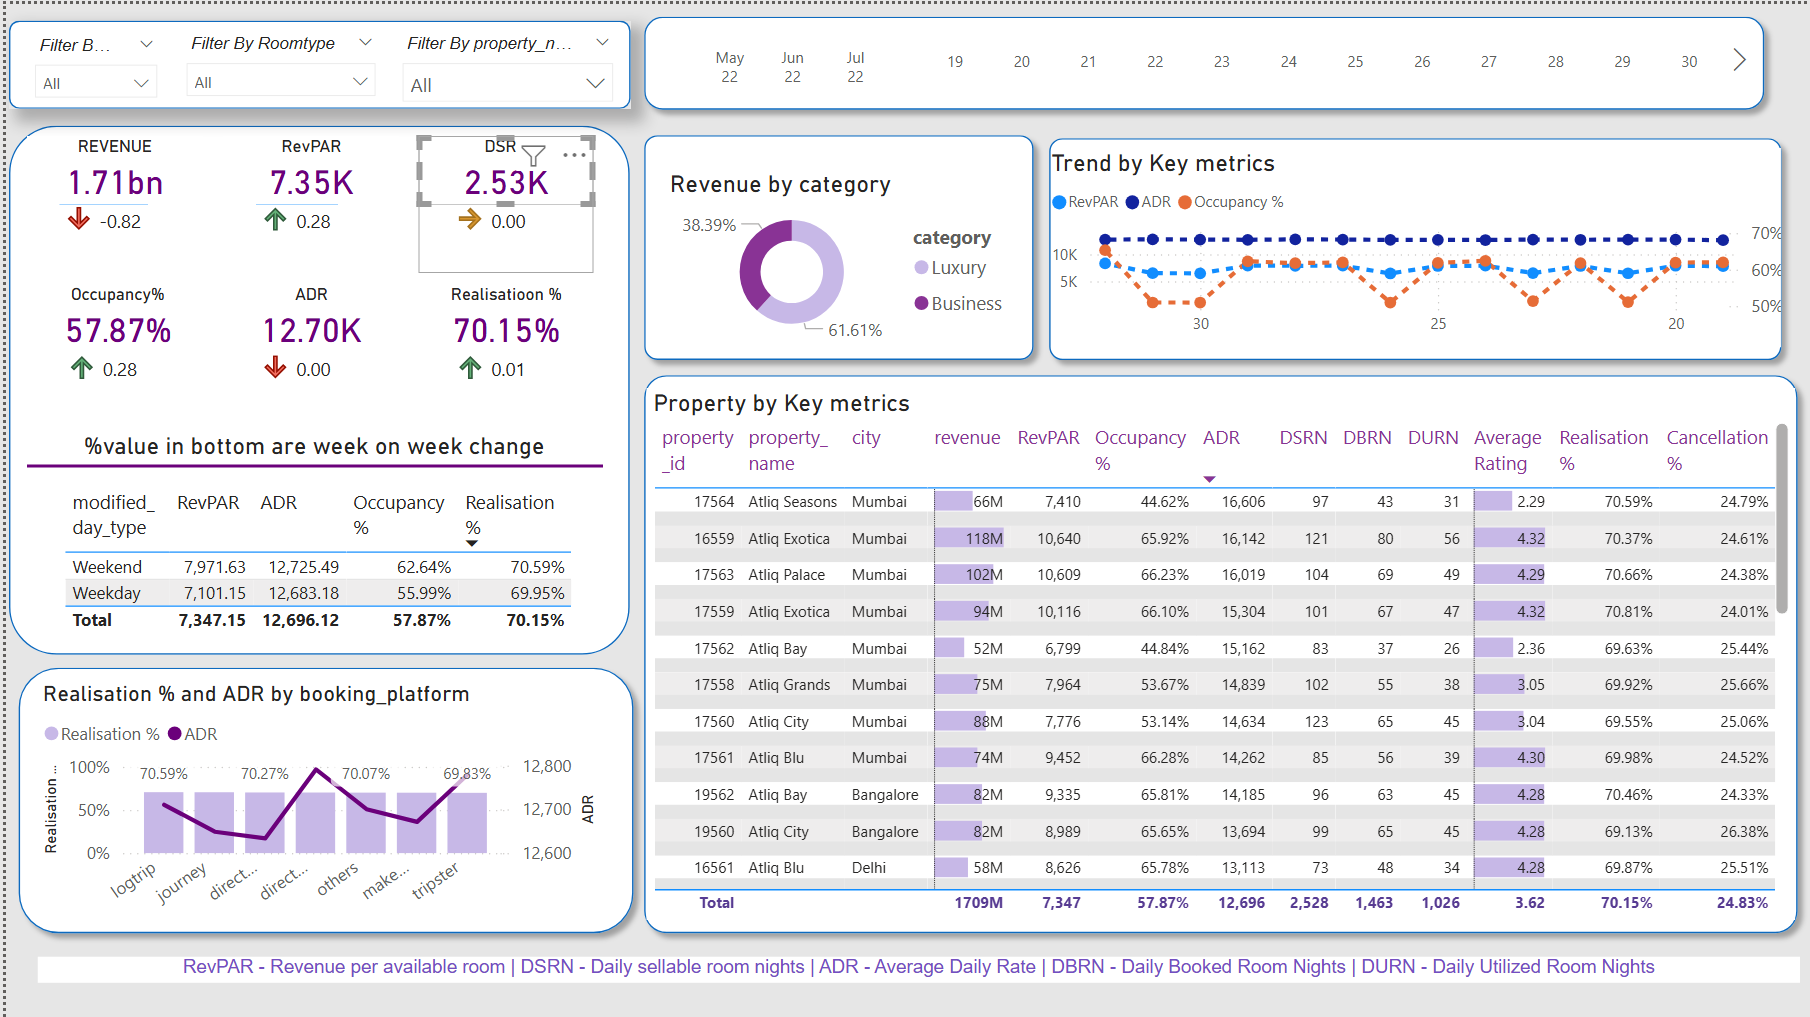

The dashboard page shown, as its layout file describes it:
{"tool":"powerbi","page":{"name":"main_page","canvas":[1280,720],"ordinal":0},"visuals":[{"type":"shape","box":[2.1,86.2,440.4,375.5],"z":0},{"type":"tableEx","title":".","fields":{"Values":["key_metrics (2).Revenue WoW change %"]},"box":[31.9,108.5,91.5,81.9],"z":0,"group":"g2"},{"type":"tableEx","title":".","fields":{"Values":["key_metrics (2).Revpar WoW change %"]},"box":[171.3,108.5,91.5,81.9],"z":0,"group":"g3"},{"type":"tableEx","title":".","fields":{"Values":["key_metrics (2).DSRN WoW change %"]},"box":[309.6,108.5,91.5,81.9],"z":0,"group":"g4"},{"type":"tableEx","title":".","fields":{"Values":["key_metrics (2).Occupancy WoW change %"]},"box":[34,213.8,91.5,81.9],"z":0,"group":"g5"},{"type":"tableEx","title":".","fields":{"Values":["key_metrics (2).ADR WoW change %"]},"box":[171.3,213.8,91.5,81.9],"z":0,"group":"g7"},{"type":"tableEx","title":".","fields":{"Values":["key_metrics (2).Realisation WoW change %"]},"box":[309.6,213.8,91.5,81.9],"z":0,"group":"g6"},{"type":"shape","box":[2.1,11.7,441.5,62.8],"z":1000},{"type":"card","title":"REVENUE","fields":{"Values":["key_metrics (2).revenue"]},"box":[14.9,93.6,124.5,48.9],"z":1000,"group":"g2"},{"type":"card","title":"RevPAR","fields":{"Values":["key_metrics (2).RevPAR"]},"box":[154.3,93.6,124.5,48.9],"z":1000,"group":"g3"},{"type":"card","title":"DSRN","fields":{"Values":["key_metrics (2).DSRN"]},"box":[292.6,93.6,124.5,48.9],"z":1000,"group":"g4"},{"type":"card","title":"Occupancy%","fields":{"Values":["key_metrics (2).Occupancy %"]},"box":[17,198.9,124.5,48.9],"z":1000,"group":"g5"},{"type":"card","title":"ADR","fields":{"Values":["key_metrics (2).ADR"]},"box":[154.3,198.9,124.5,48.9],"z":1000,"group":"g7"},{"type":"card","title":"Realisatioon %","fields":{"Values":["key_metrics (2).Realisation %"]},"box":[292.6,198.9,124.5,48.9],"z":1000,"group":"g6"},{"type":"shape","box":[0,461.7,454.3,206.4],"z":2000},{"type":"shape","box":[443.6,0,812.8,84],"z":3000},{"type":"shape","box":[443.6,254.3,836.2,413.8],"z":4000},{"type":"tableEx","title":"Property by Key metrics","fields":{"Values":["dim_hotels.property_id","dim_hotels.property_name","dim_hotels.city","key_metrics (2).revenue","key_metrics (2).RevPAR","key_metrics (2).Occupancy %","key_metrics (2).ADR","key_metrics (2).DSRN","key_metrics (2).DBRN","key_metrics (2).DURN","key_metrics (2).Average Rating","key_metrics (2).Realisation %"]},"box":[454.3,272.3,814.9,377.7],"z":5000},{"type":"slicer","fields":{"Values":["dim_date.mmm_yy"]},"box":[466,14.9,181.9,51.1],"z":6000},{"type":"slicer","fields":{"Values":["dim_date.week_no"]},"box":[624.5,13.8,616,52.1],"z":7000},{"type":"group","id":"g1","title":"Group 1","box":[118.1,16,322.3,53.2],"z":8000},{"type":"shape","box":[443.6,84,294.7,177.7],"z":9000},{"type":"donutChart","title":"Revenue by category","fields":{"Category":["dim_hotels.category"],"Y":["key_metrics (2).revenue"]},"box":[466,117,256.4,126.6],"z":10000},{"type":"slicer","fields":{"Values":["dim_rooms.room_class"]},"box":[118.1,16,154.3,53.2],"z":11000,"group":"g1"},{"type":"shape","title":" RevPAR - Revenue per available room | DSRN - Daily sellable room nights | ADR - Average Daily Rate | DBRN - Daily Booked Room Nights | DURN - Daily Utilized Room Nights","box":[22.3,675.5,1250,31.9],"z":11000},{"type":"slicer","fields":{"Values":["dim_hotels.property_name"]},"box":[271.3,16,169.1,53.2],"z":11500,"group":"g1"},{"type":"shape","box":[730.9,86.2,537.2,175.5],"z":12000},{"type":"slicer","fields":{"Values":["dim_hotels.city"]},"box":[10.6,17,106.4,53.2],"z":13000},{"type":"lineChart","title":"Trend by Key metrics","fields":{"Y":["key_metrics (2).RevPAR","key_metrics (2).ADR"],"Category":["dim_date.week_no"],"Y2":["key_metrics (2).Occupancy %"]},"box":[741.5,102.1,517,141.5],"z":14000},{"type":"lineStackedColumnComboChart","fields":{"Y":["key_metrics (2).Realisation %"],"Y2":["key_metrics (2).ADR"],"Category":["fact_bookings.booking_platform"]},"box":[21.3,479.8,402.1,170.2],"z":15000},{"type":"tableEx","fields":{"Values":["dim_date.modified_day_type","key_metrics (2).RevPAR","key_metrics (2).ADR","key_metrics (2).Occupancy %","key_metrics (2).Realisation %"]},"box":[36.2,337.2,375.5,116],"z":16000},{"type":"group","id":"g2","title":"Group 2","box":[14.9,93.6,124.5,96.8],"z":17000},{"type":"group","id":"g3","title":"Group 2","box":[154.3,93.6,124.5,96.8],"z":18000},{"type":"group","id":"g4","title":"Group 2","box":[292.6,93.6,124.5,96.8],"z":19000},{"type":"group","id":"g5","title":"Group 2","box":[17,198.9,124.5,96.8],"z":20000},{"type":"group","id":"g6","title":"Group 2","box":[292.6,198.9,124.5,96.8],"z":21000},{"type":"group","id":"g7","title":"Group 2","box":[154.3,198.9,124.5,96.8],"z":22000},{"type":"shape","title":"%value in bottom are week on week change","box":[13.8,303.2,409.6,24.5],"z":23000},{"type":"shape","box":[14.9,318.1,408.5,19.1],"z":24000}]}

Visuals, with their boxes in screenshot pixels (x1, y1, x2, y2), scaled from the page's 1280x720 canvas onto the 1810x1017 screenshot:
shape: [3, 122, 626, 652]
"." tableEx: [45, 153, 174, 269]
"." tableEx: [242, 153, 372, 269]
"." tableEx: [438, 153, 567, 269]
"." tableEx: [48, 302, 177, 418]
"." tableEx: [242, 302, 372, 418]
"." tableEx: [438, 302, 567, 418]
shape: [3, 17, 627, 105]
"REVENUE" card: [21, 132, 197, 201]
"RevPAR" card: [218, 132, 394, 201]
"DSRN" card: [414, 132, 590, 201]
"Occupancy%" card: [24, 281, 200, 350]
"ADR" card: [218, 281, 394, 350]
"Realisatioon %" card: [414, 281, 590, 350]
shape: [0, 652, 642, 944]
shape: [627, 0, 1777, 119]
shape: [627, 359, 1809, 944]
"Property by Key metrics" tableEx: [642, 385, 1795, 918]
slicer - dim_date.mmm_yy: [659, 21, 916, 93]
slicer - dim_date.week_no: [883, 19, 1754, 93]
"Group 1" group: [167, 23, 623, 98]
shape: [627, 119, 1044, 370]
"Revenue by category" donutChart: [659, 165, 1022, 344]
slicer - dim_rooms.room_class: [167, 23, 385, 98]
" RevPAR - Revenue per available room | DSRN - Daily sellable room nights | ADR - Average Daily Rate | DBRN - Daily Booked Room Nights | DURN - Daily Utilized Room Nights" shape: [32, 954, 1799, 999]
slicer - dim_hotels.property_name: [384, 23, 623, 98]
shape: [1034, 122, 1793, 370]
slicer - dim_hotels.city: [15, 24, 165, 99]
"Trend by Key metrics" lineChart: [1049, 144, 1780, 344]
lineStackedColumnComboChart - key_metrics (2).Realisation % x key_metrics (2).ADR: [30, 678, 599, 918]
tableEx - dim_date.modified_day_type x key_metrics (2).RevPAR: [51, 476, 582, 640]
"Group 2" group: [21, 132, 197, 269]
"Group 2" group: [218, 132, 394, 269]
"Group 2" group: [414, 132, 590, 269]
"Group 2" group: [24, 281, 200, 418]
"Group 2" group: [414, 281, 590, 418]
"Group 2" group: [218, 281, 394, 418]
"%value in bottom are week on week change" shape: [20, 428, 599, 463]
shape: [21, 449, 599, 476]
